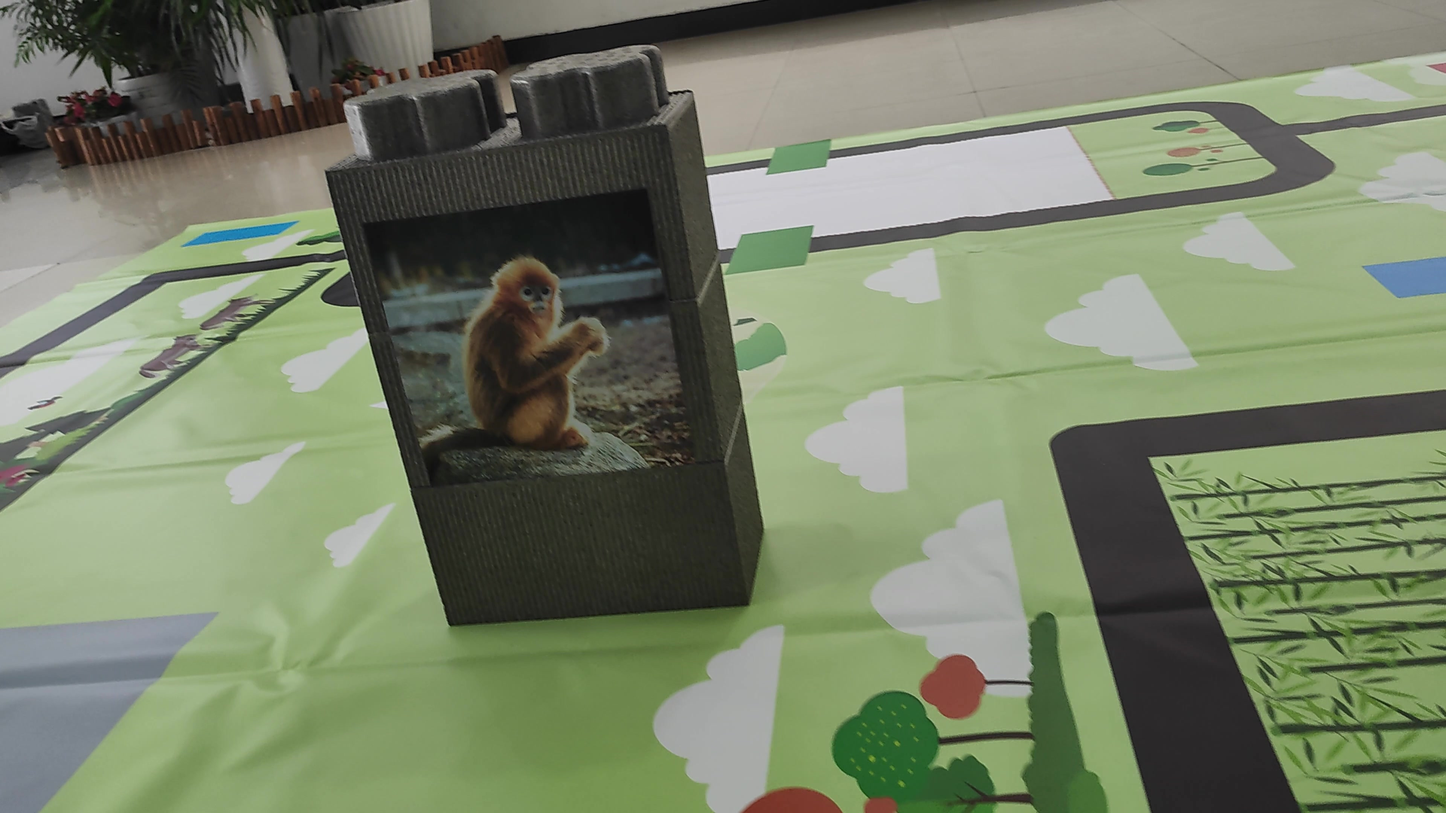monkey: (411, 231, 616, 474)
